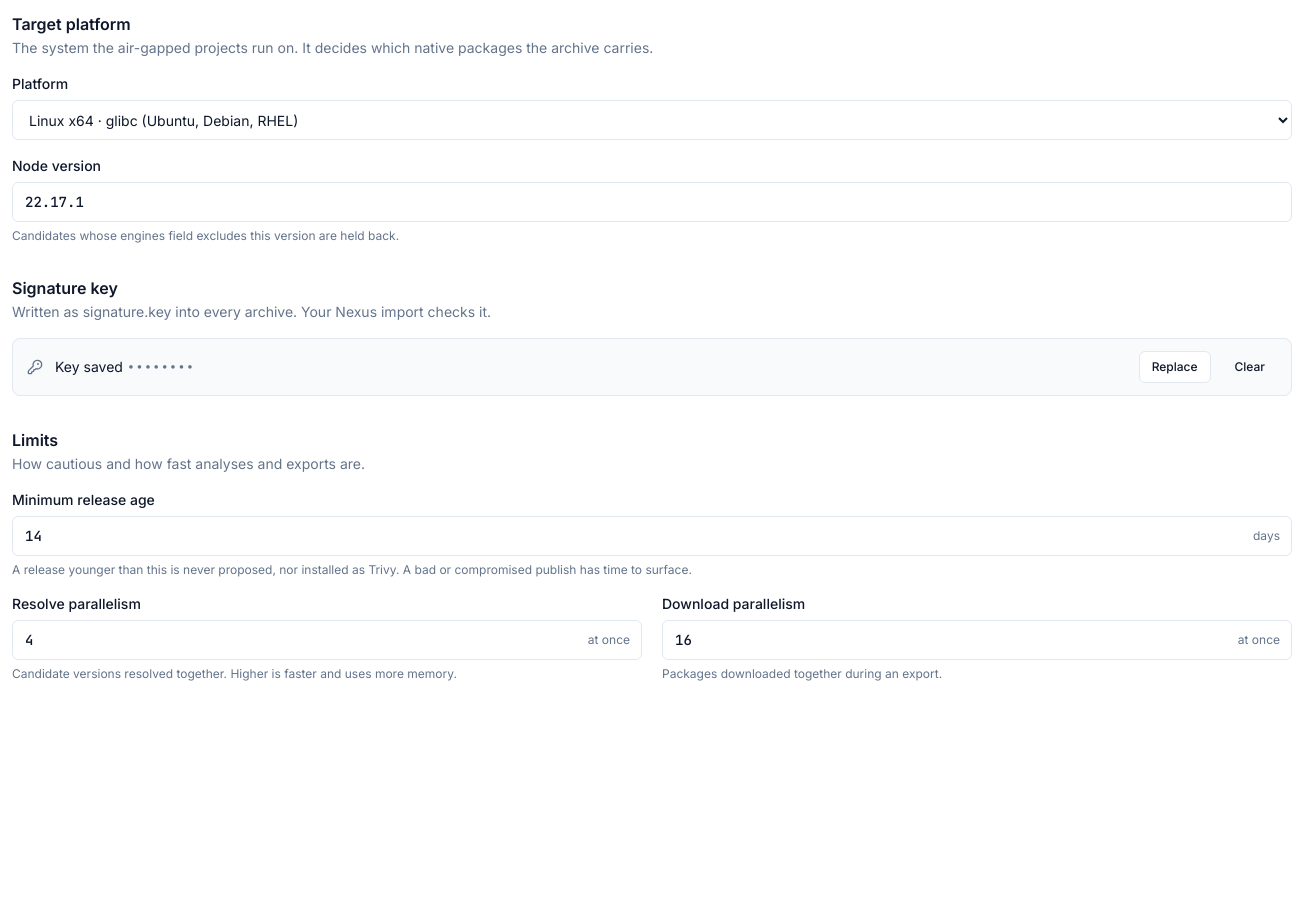
SettingsForm › shows a server refusal under the field it names
Replace the text in the field labelled "Node version" with "23.0.0" at (652, 202), box [12, 182, 1292, 222]
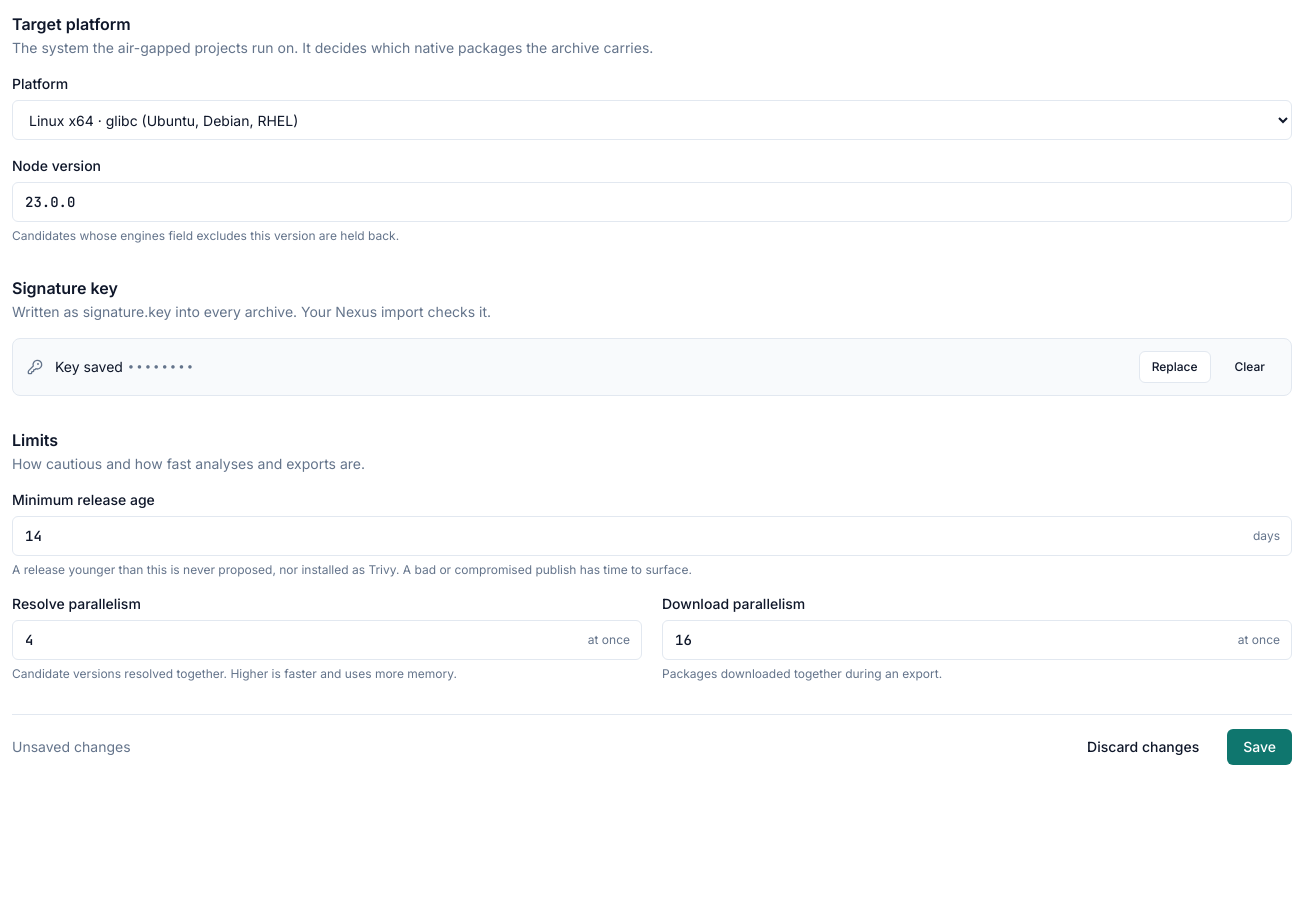
Click the button "Save".
click(1260, 747)  # box [1227, 729, 1292, 765]
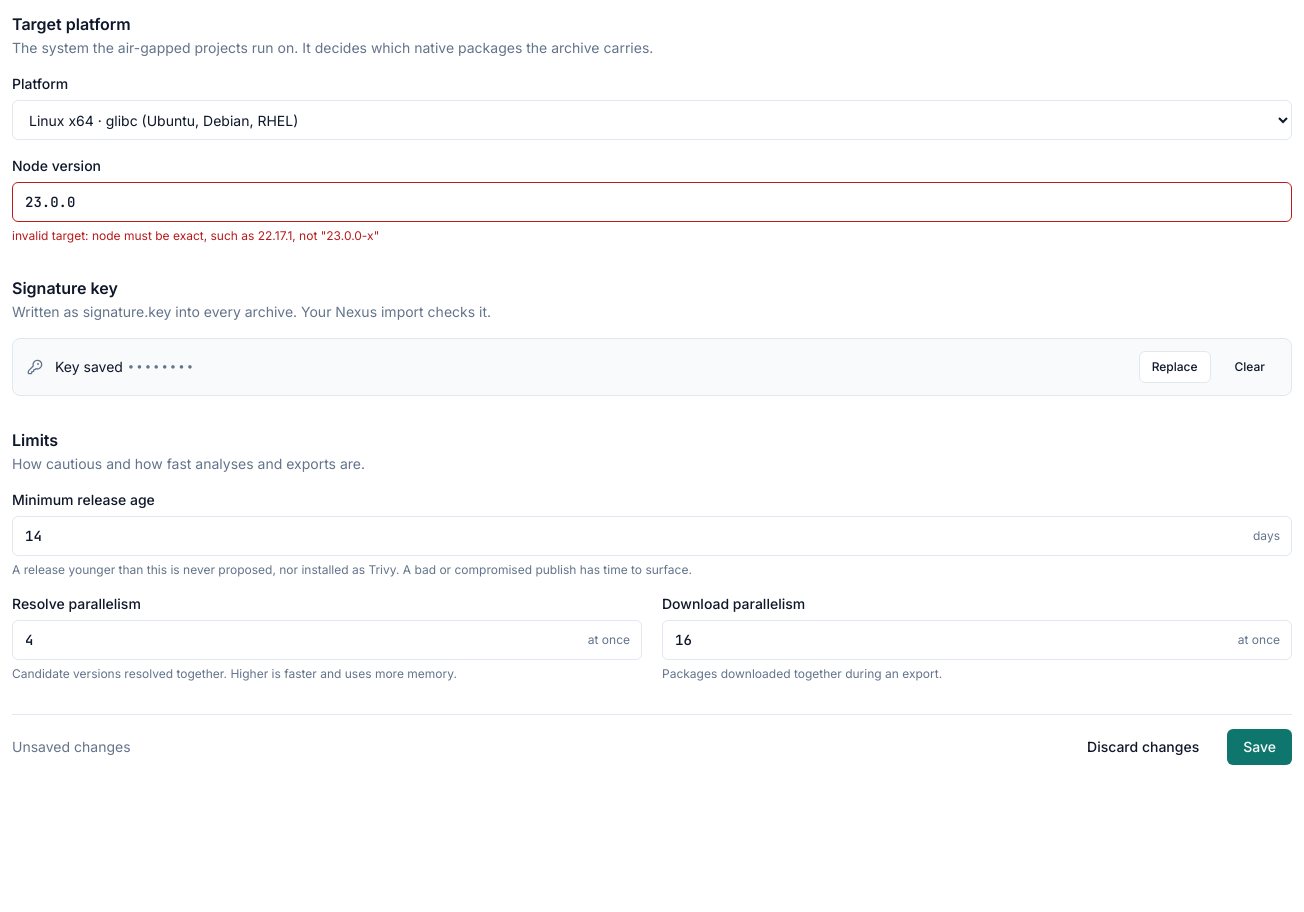
Result: the text "invalid target: node must be exact, such as 22.17.1, not \"23.0.0-x\"" is shown at [12, 228, 379, 243]
